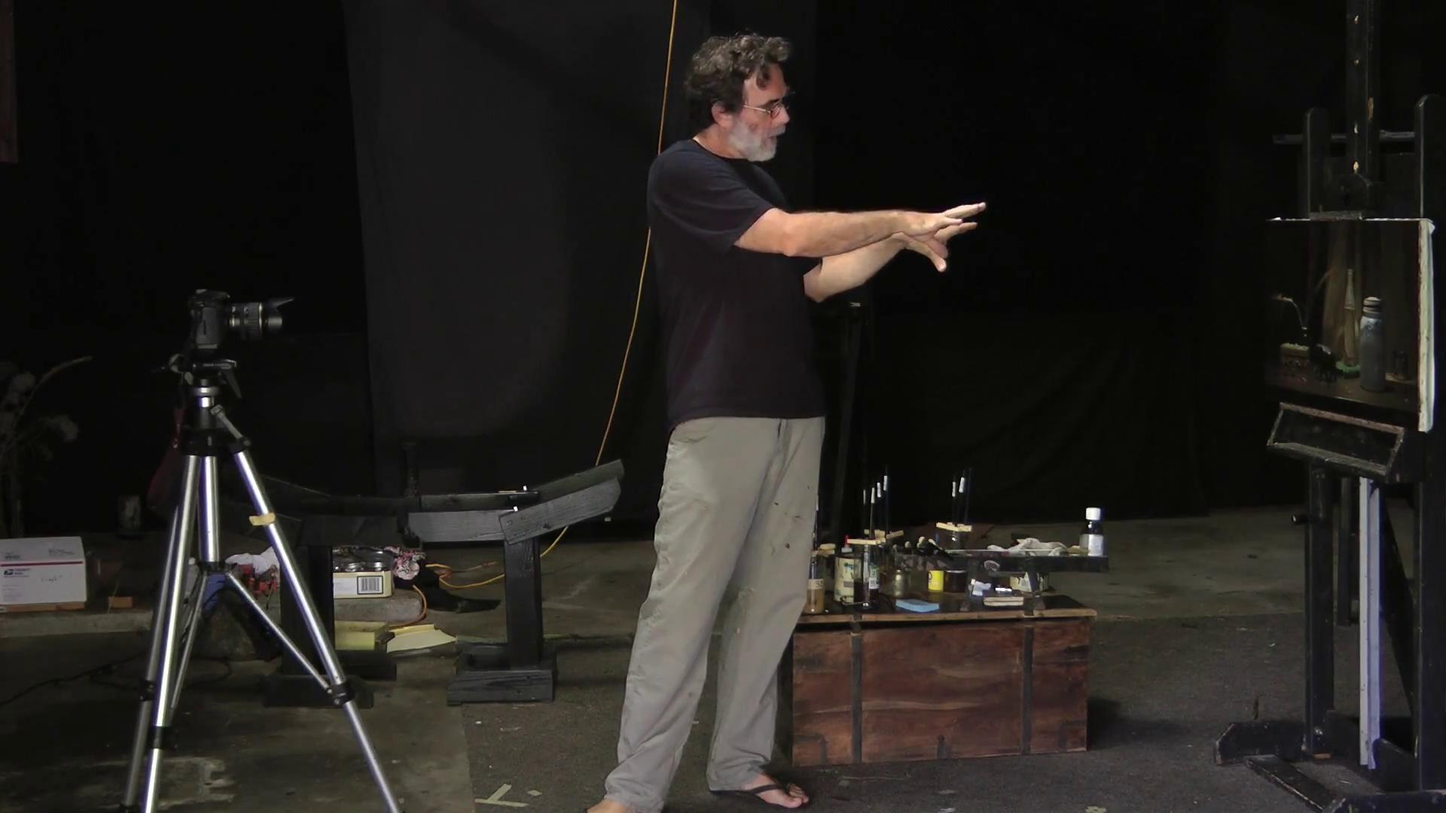victim: (575, 23, 996, 812)
